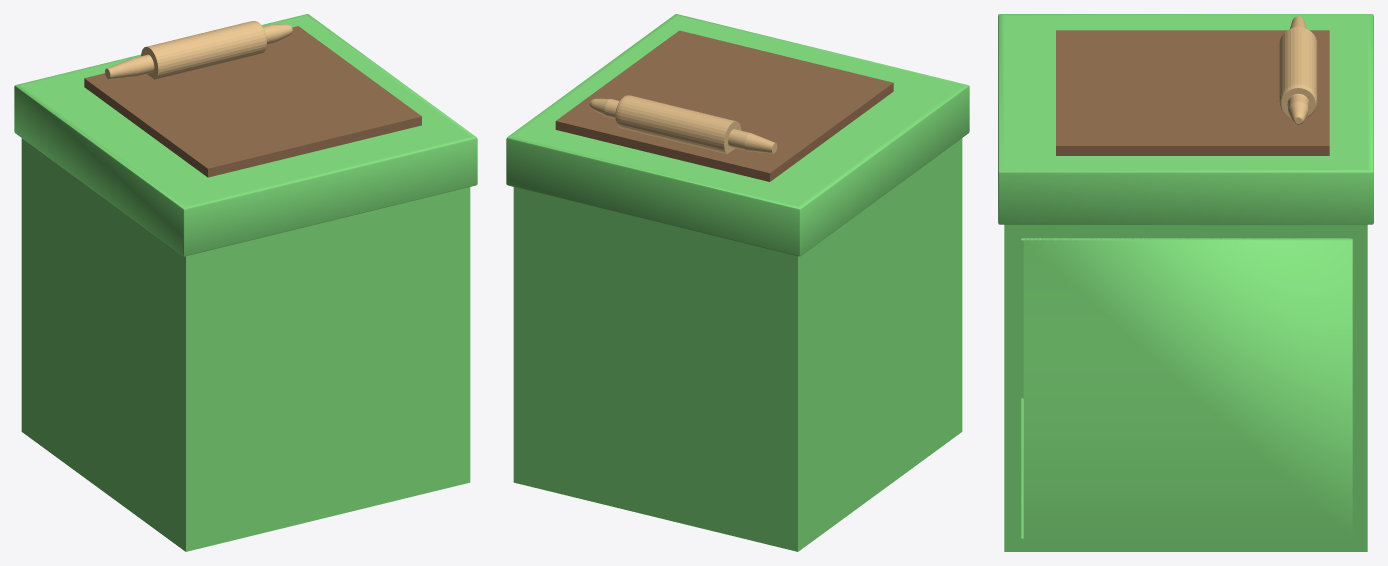
The model's file is MixCounter.fbx.
3 renders of one model, left to right at view 1: azimuth 30°, elevation 25°; view 2: azimuth 150°, elevation 25°; view 3: azimuth 270°, elevation 25°, orthographic. The views are drawn at different scales.
Parts seen in each view (by area): view 1: Mueble.005, Tabla; view 2: Mueble.005, Tabla; view 3: Tapa.005, Mueble.005, Tabla.
Boxes of the visible parts, bbox=[...] form: Mueble.005: bbox=[14, 14, 477, 551]; Tabla: bbox=[84, 21, 421, 177]; Mueble.005: bbox=[506, 14, 969, 551]; Tabla: bbox=[555, 30, 893, 181]; Tapa.005: bbox=[1023, 238, 1352, 539]; Mueble.005: bbox=[998, 14, 1373, 551]; Tabla: bbox=[1056, 16, 1329, 155].
Size of the model in its own units: 207 by 257 by 207.
